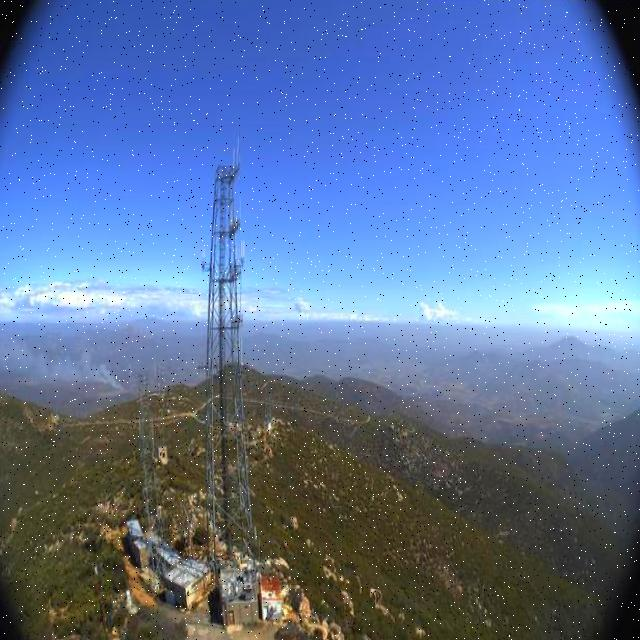smoke: (0, 330, 132, 395)
